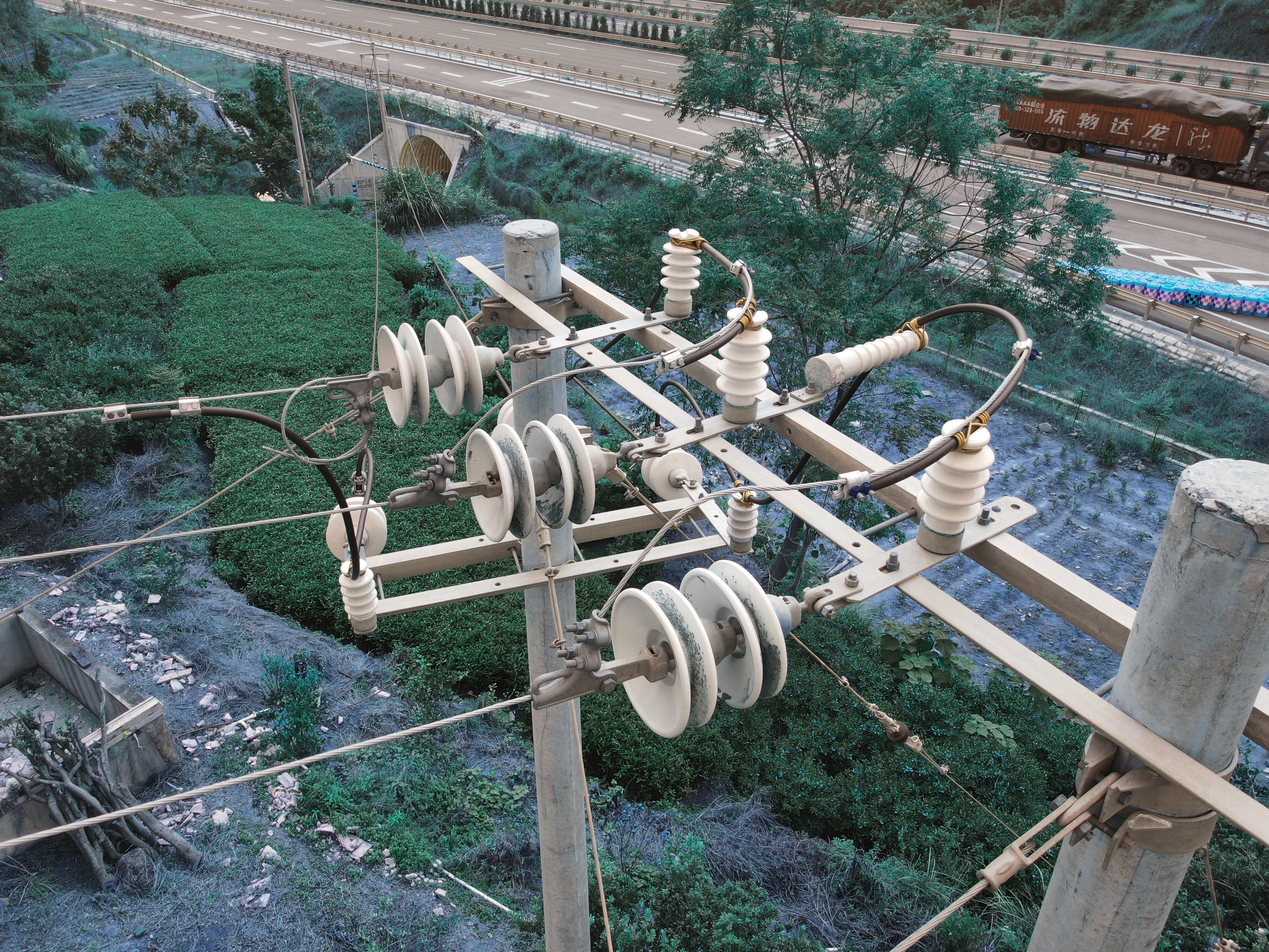severe_soiling_no_discharge_whole: (602, 557, 805, 740), (463, 412, 622, 546)
